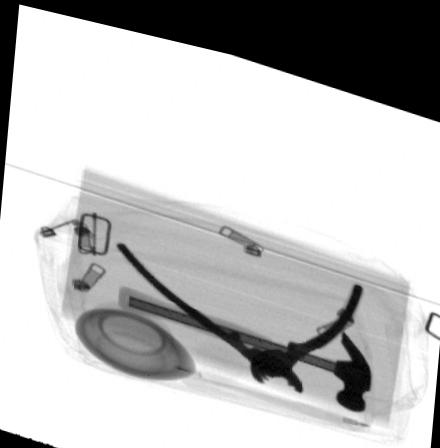Hammer: (117, 279, 371, 395)
Pliers: (113, 235, 362, 379)
